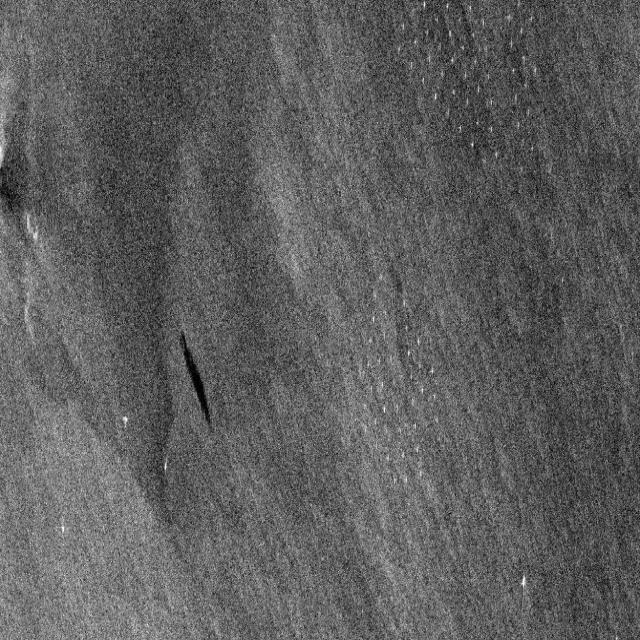oil-spill: (176, 321, 220, 436)
